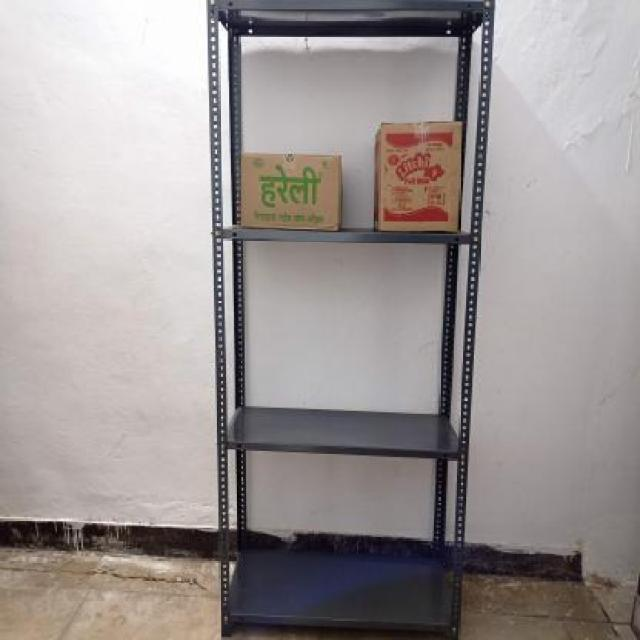box: (379, 121, 461, 232), (238, 152, 342, 228)
